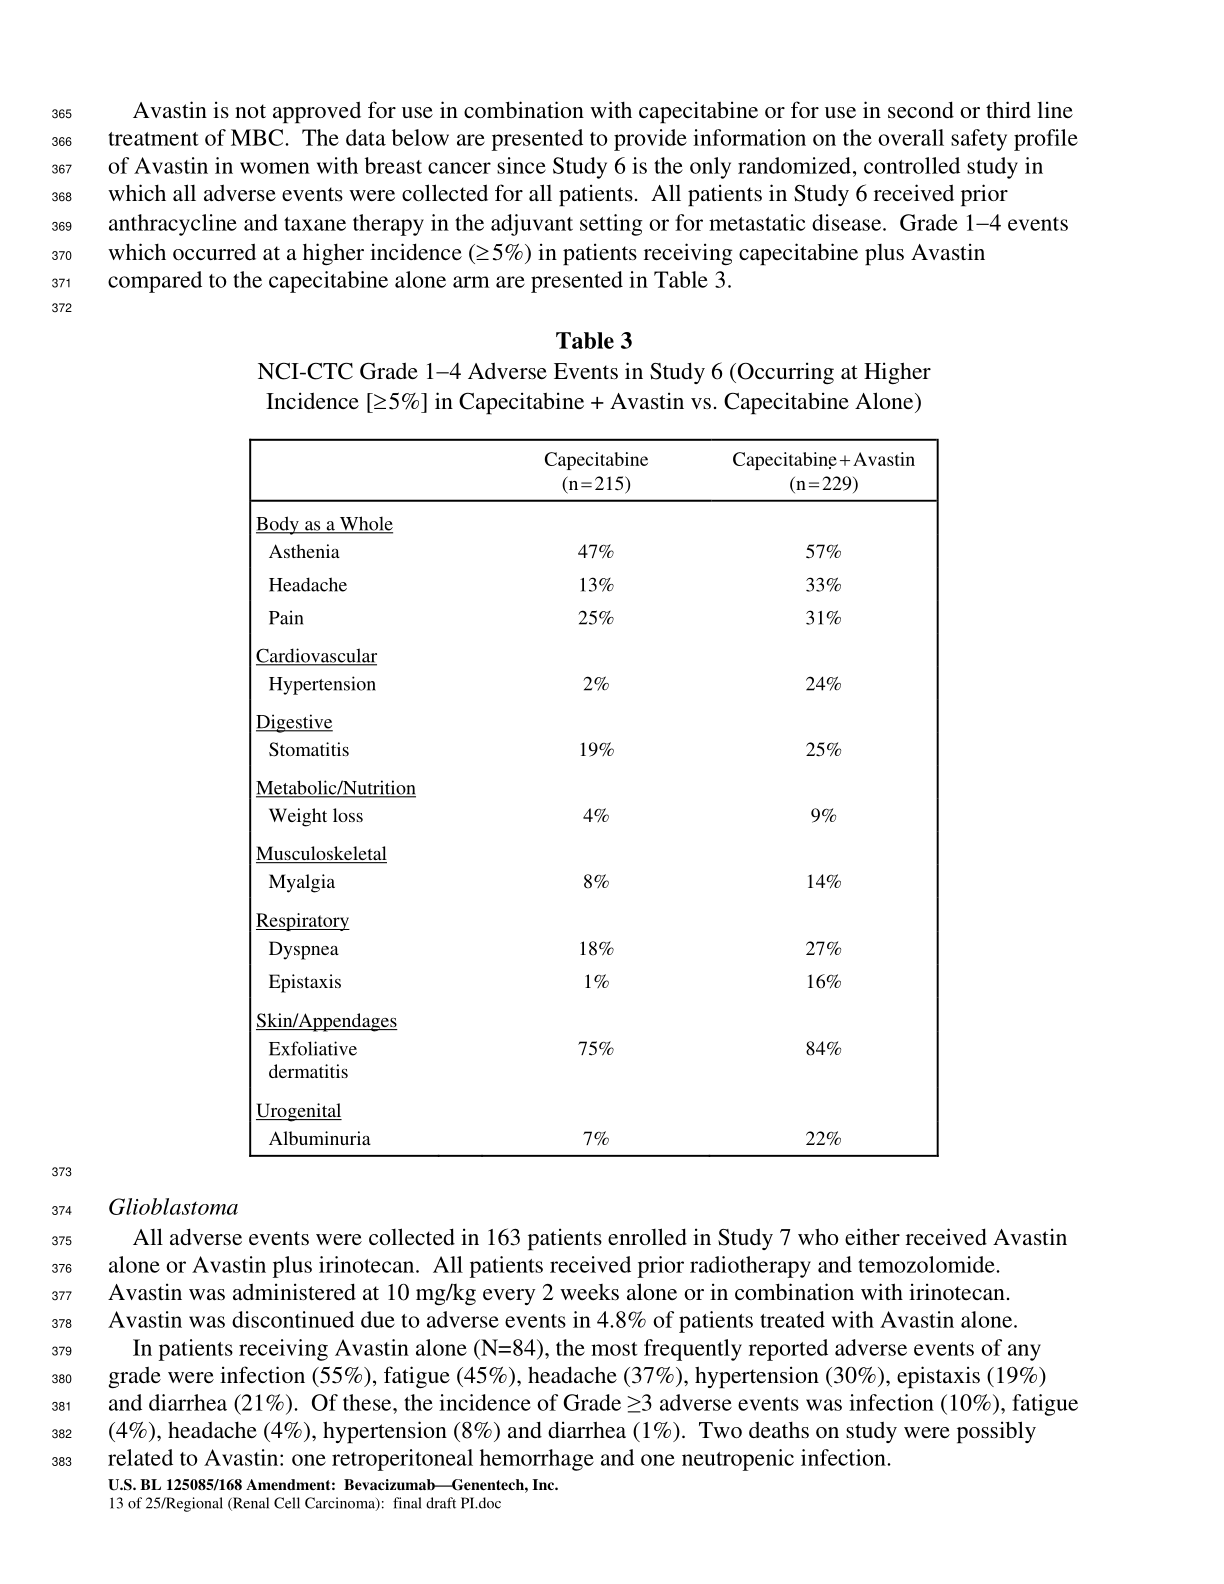partial_lined_merged_cells: (247, 437, 939, 1158)
